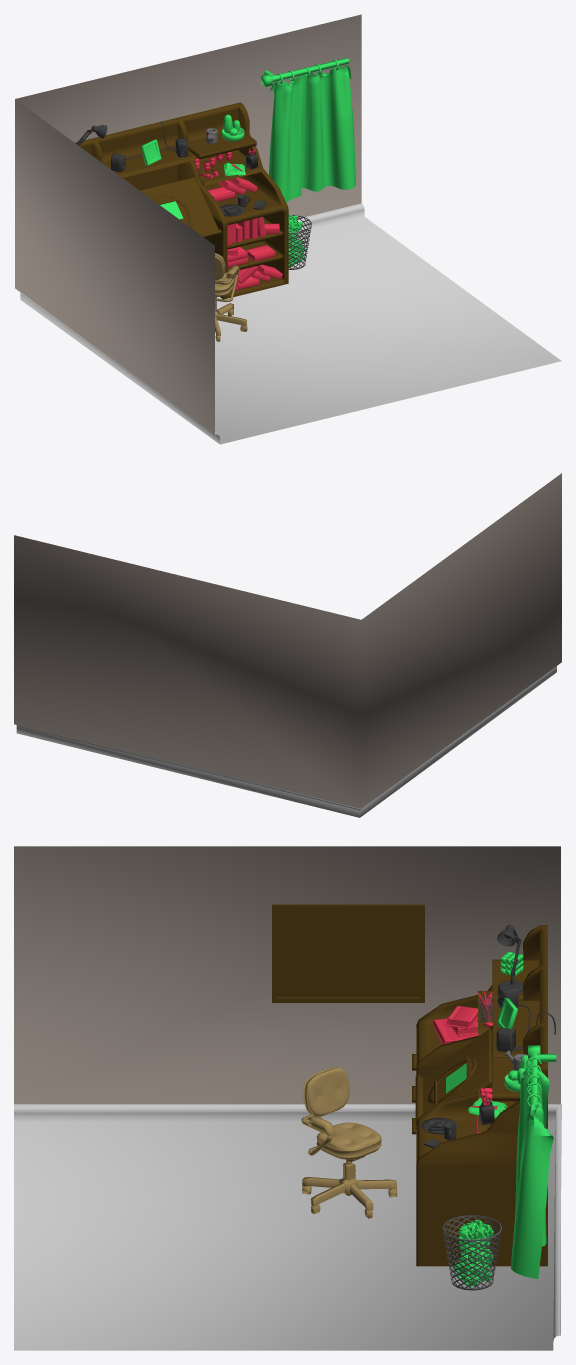
The model's file is Estudio.glb.
The picture shows the model from 3 angles, top to bottom: view 1: azimuth 30°, elevation 25°; view 2: azimuth 150°, elevation 25°; view 3: azimuth 270°, elevation 25°; orthographic projection. The views are drawn at different scales.
Parts seen in each view (by area): view 1: Plane.013, Plane.001, Circle.021, Plane.002, Circle.020, Cube.001, Circle.066, Cube.038; view 2: Plane.013; view 3: Plane.013, Plane.001, Plane.015, Circle.021, Plane.002, Cube.001, Cube.005, Cube.004, Cube.008, Circle.020, Cube.038.
Boxes of the visible parts, left/top/right/bottom form: Plane.013: left=14, top=14, right=561, bottom=444; Plane.001: left=75, top=102, right=288, bottom=299; Circle.021: left=269, top=65, right=355, bottom=202; Plane.002: left=140, top=177, right=221, bottom=238; Circle.020: left=261, top=58, right=349, bottom=86; Cube.001: left=288, top=215, right=311, bottom=269; Circle.066: left=227, top=223, right=259, bottom=290; Cube.038: left=125, top=121, right=266, bottom=216; Plane.013: left=14, top=473, right=561, bottom=817; Plane.013: left=14, top=846, right=561, bottom=1350; Plane.001: left=416, top=925, right=547, bottom=1266; Plane.015: left=272, top=904, right=424, bottom=1002; Circle.021: left=511, top=1063, right=553, bottom=1278; Plane.002: left=415, top=1029, right=492, bottom=1129; Cube.001: left=442, top=997, right=501, bottom=1290; Cube.005: left=303, top=1067, right=349, bottom=1116; Cube.004: left=316, top=1122, right=381, bottom=1159; Cube.008: left=302, top=1165, right=397, bottom=1218; Circle.020: left=526, top=1045, right=556, bottom=1109; Cube.038: left=421, top=1004, right=555, bottom=1147.
Size of the model in its own units: 3.72 by 2.06 by 3.72.
